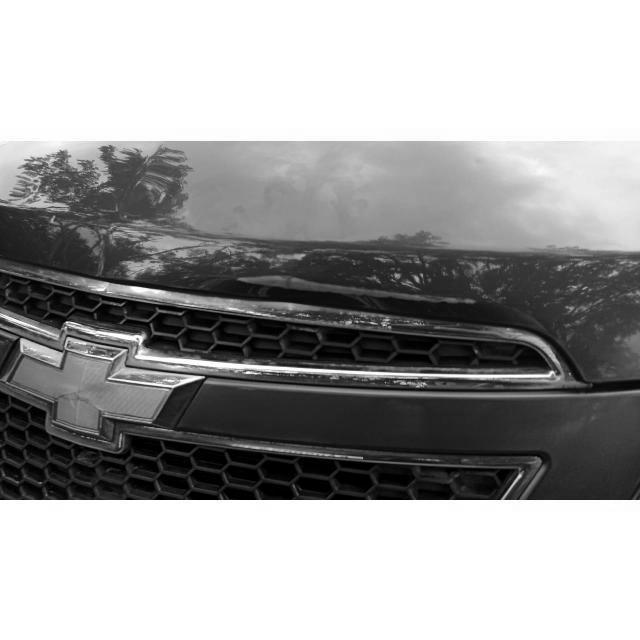bonnet-dent: (1, 140, 640, 370)
